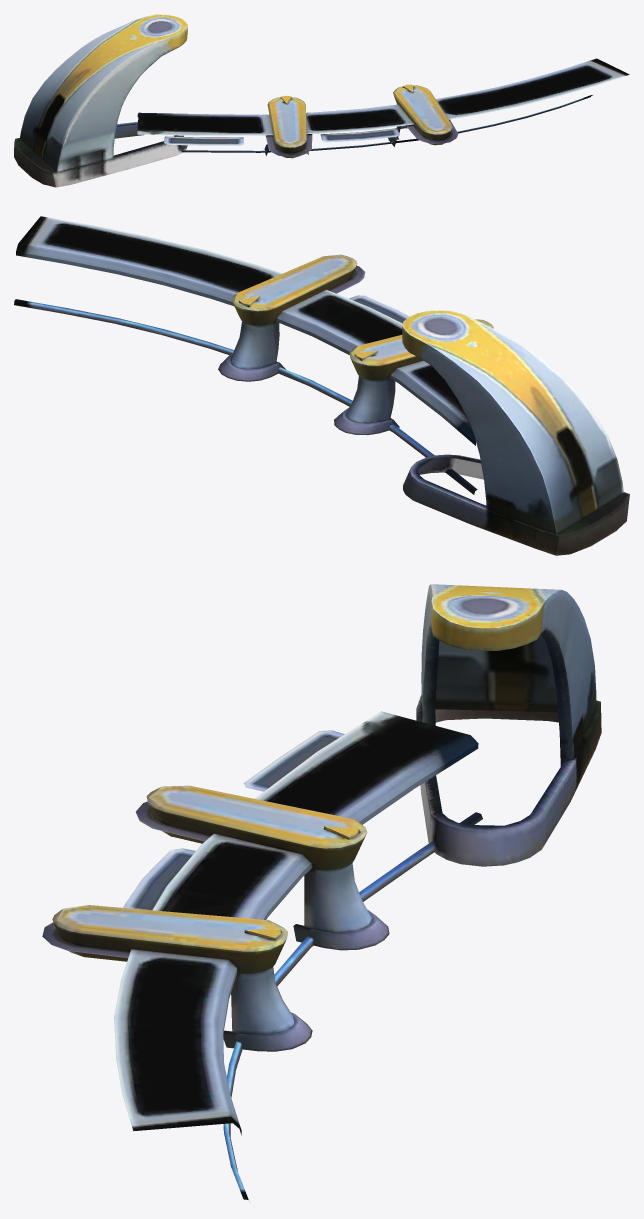
Rendered from pref_sm_4v4beachtech_bk_topblock_R01b_lv0.fbx.
3 views of the same model, one above another, from view 1: azimuth 30°, elevation 25°; view 2: azimuth 150°, elevation 25°; view 3: azimuth 270°, elevation 25° (orthographic). The views are drawn at different scales.
Visible parts, largest first — view 1: sm_4v4beachtech_bk_topblock_R01b_lv0; view 2: sm_4v4beachtech_bk_topblock_R01b_lv0; view 3: sm_4v4beachtech_bk_topblock_R01b_lv0.
Boxes of the visible parts, left/top/right/bottom form: sm_4v4beachtech_bk_topblock_R01b_lv0: left=14, top=14, right=629, bottom=187; sm_4v4beachtech_bk_topblock_R01b_lv0: left=14, top=216, right=629, bottom=555; sm_4v4beachtech_bk_topblock_R01b_lv0: left=42, top=584, right=601, bottom=1201.
Bounding box in the file's own units: 19.2 × 4.32 × 9.11.
